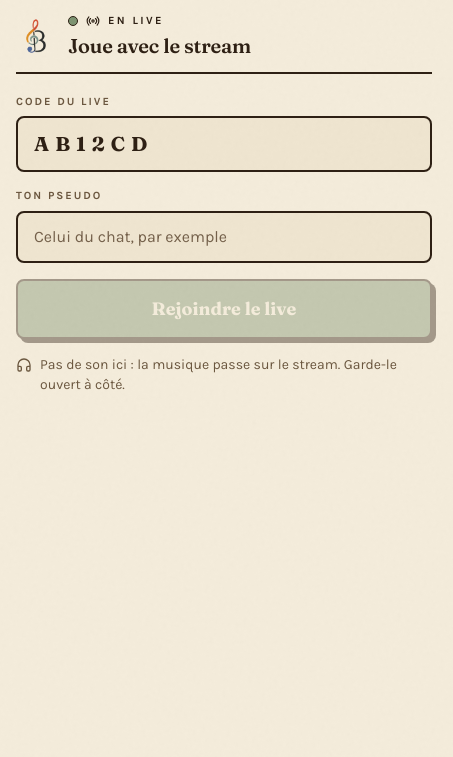
page viewer › repond pendant la manche, une seule fois, et ne cree jamais d'audio
Step 1. Type "Lena" into the field labelled "Ton pseudo" → (224, 236), box [16,210,432,262]
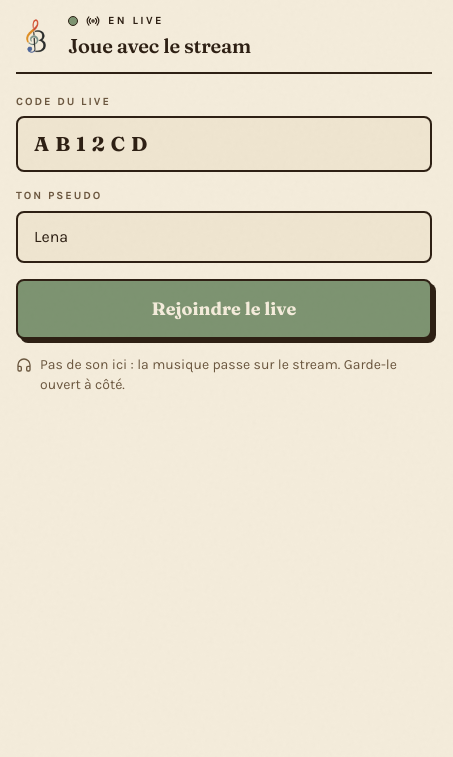
Step 2. Click the button "Rejoindre le live" → (224, 308), box [16,278,432,338]
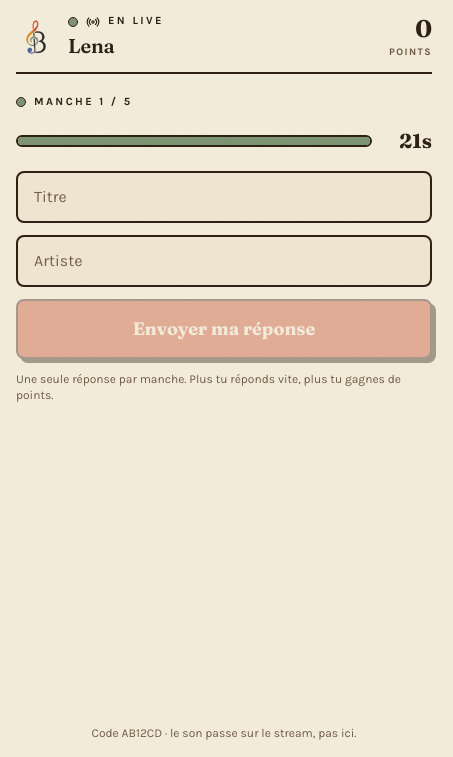
Step 3. Type "Chocolat" into the field labelled "Titre" → (224, 196), box [16,170,432,222]
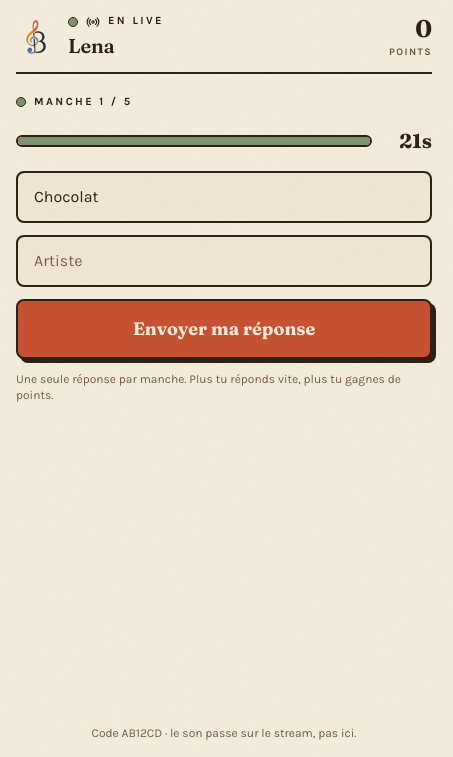
Step 4. Type "Naza" into the field labelled "Artiste" → (224, 260), box [16,234,432,286]
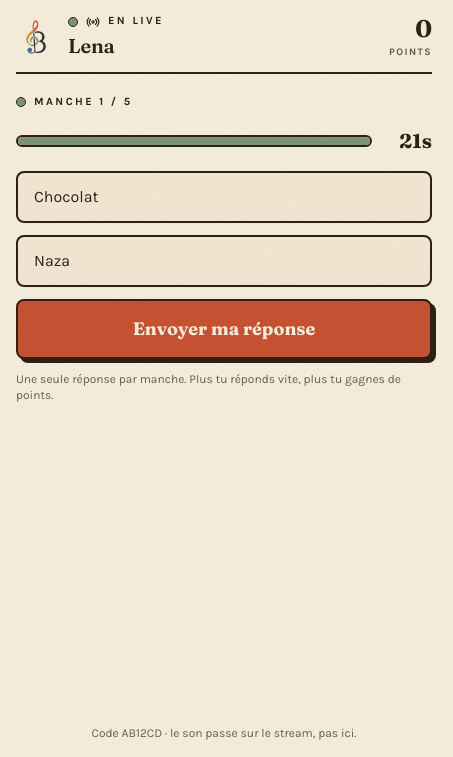
Step 5. Click the button "Envoyer ma réponse" → (224, 328), box [16,298,432,358]
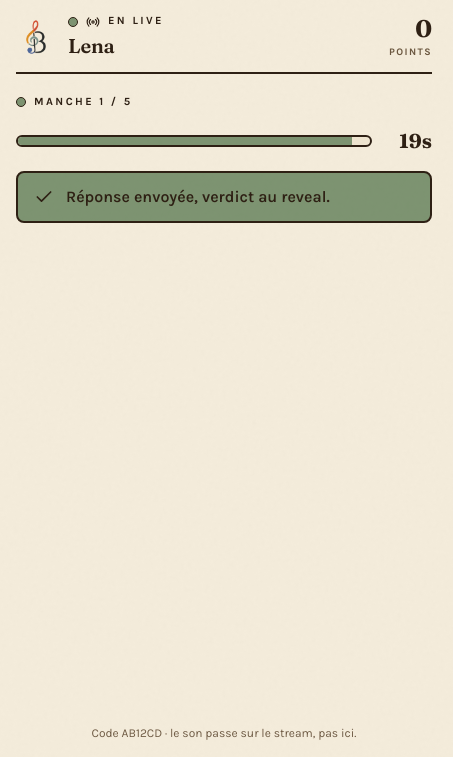
Expected: the element with test id "live-sent" is shown, [16,170,432,222]
Expected: the field labelled "Titre" is gone
